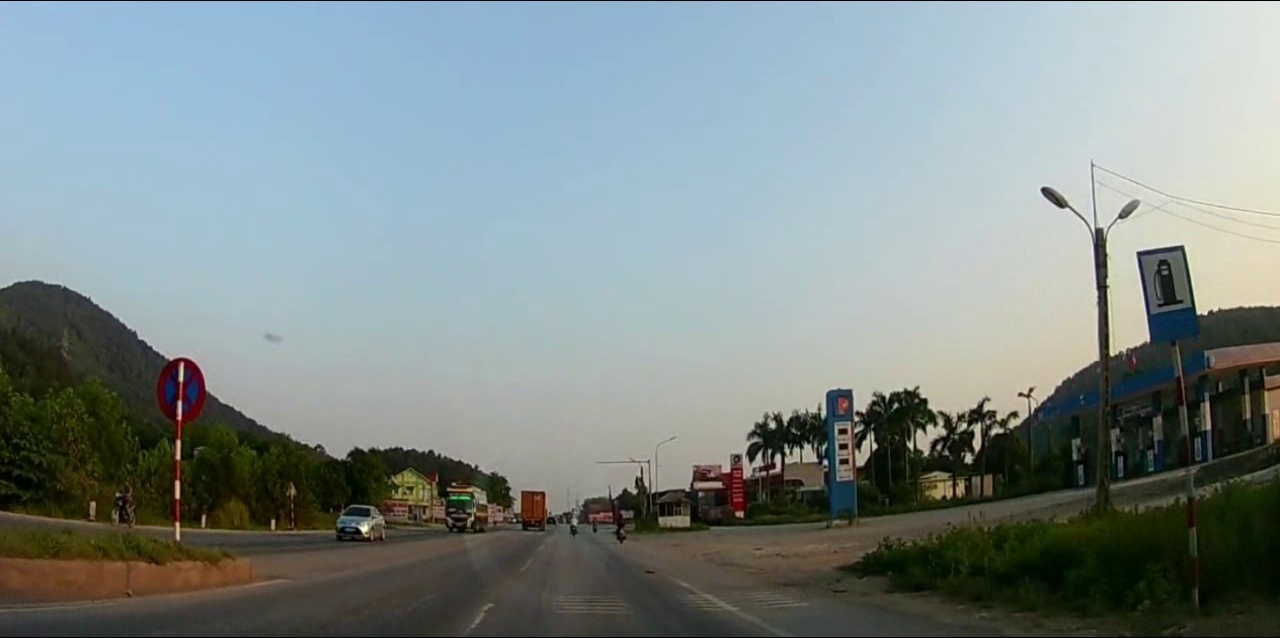Bien khac: (1134, 242, 1202, 345)
